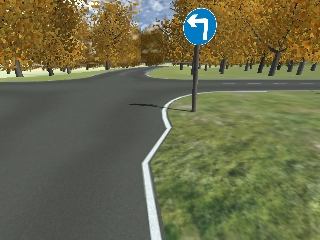left: (182, 8, 217, 42)
